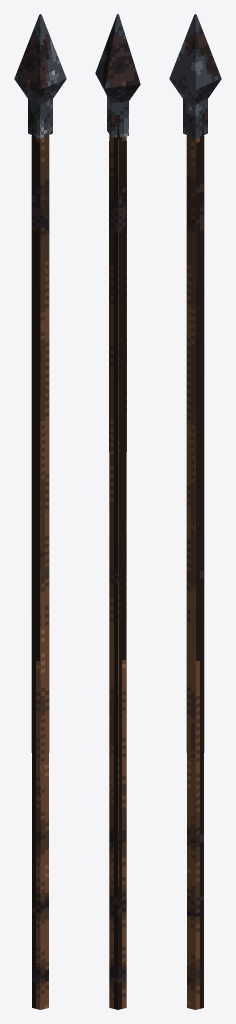
File: SM_Prop_Spear_01.glb
3 views of the same model, side by side, from view 1: azimuth 90°, elevation 25°; view 2: azimuth 150°, elevation 25°; view 3: azimuth 270°, elevation 25° (orthographic).
Visible parts, largest first — view 1: wood_pole, iron_spearhead; view 2: wood_pole, iron_spearhead; view 3: wood_pole, iron_spearhead.
Part boxes in pixels (bbox=[...]): wood_pole: bbox=[31, 119, 49, 1009]; iron_spearhead: bbox=[14, 14, 66, 138]; wood_pole: bbox=[109, 121, 126, 1009]; iron_spearhead: bbox=[95, 14, 140, 137]; wood_pole: bbox=[186, 119, 204, 1009]; iron_spearhead: bbox=[169, 14, 221, 138].
Size of the model in its own units: 0.096 by 2 by 0.096.
1 material, 1 textured.
